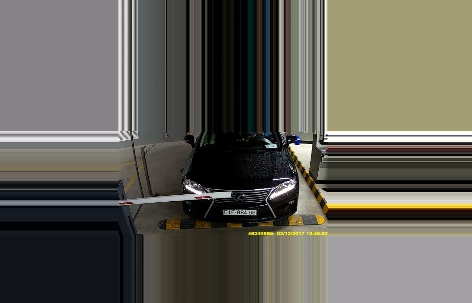plate: (222, 206, 258, 217)
